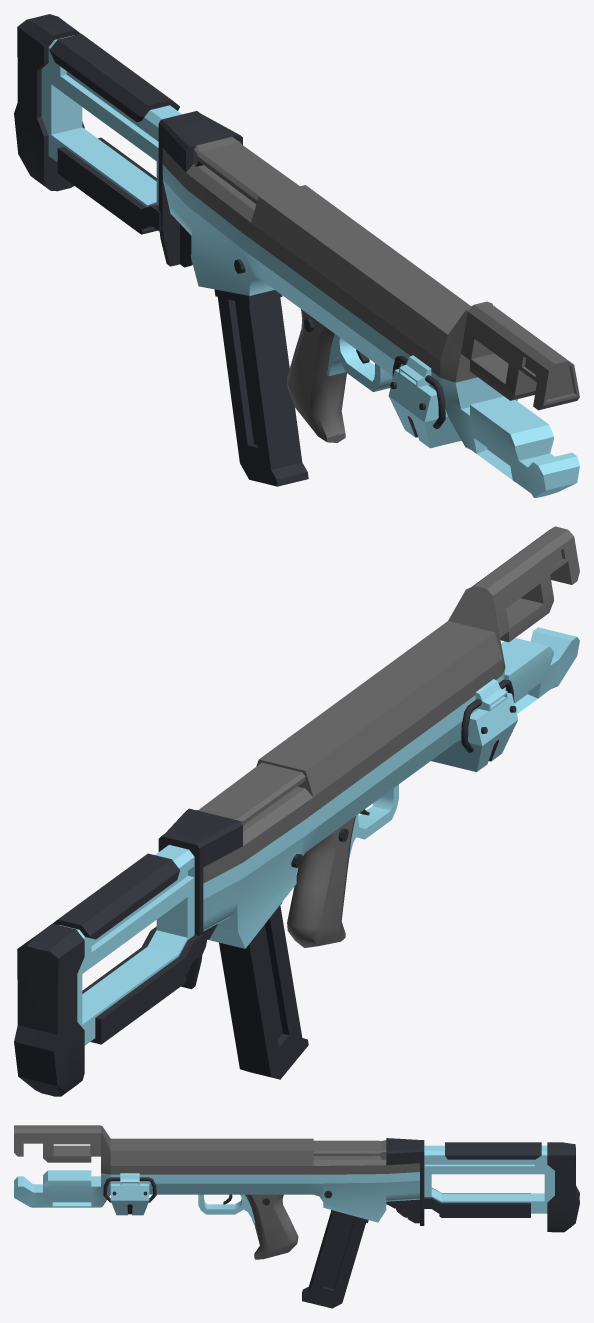
File: Gun1.fbx
3 views of the same model, one above another, from view 1: azimuth 30°, elevation 25°; view 2: azimuth 150°, elevation 25°; view 3: azimuth 270°, elevation 25° (orthographic). The views are drawn at different scales.
Parts seen in each view (by area): view 1: stock_guardian_long, mediumBlaster_center (×2), mediumBlaster_front_jaw, stock_viper_assault, magazine_long, grip_trigger_coyote, handguard_guardian; view 2: stock_guardian_long, mediumBlaster_center (×2), stock_viper_assault, mediumBlaster_front_jaw, magazine_long, grip_trigger_coyote, handguard_guardian; view 3: mediumBlaster_center (×2), stock_guardian_long, stock_viper_assault, mediumBlaster_front_jaw, magazine_long, grip_trigger_coyote, handguard_guardian.
Part boxes in pixels (left/top/right/bottom): stock_guardian_long: left=14, top=14, right=181, bottom=234; mediumBlaster_center (×2): left=260, top=191, right=471, bottom=390; mediumBlaster_front_jaw: left=440, top=301, right=579, bottom=497; stock_viper_assault: left=158, top=111, right=314, bottom=295; magazine_long: left=214, top=289, right=308, bottom=486; grip_trigger_coyote: left=287, top=309, right=392, bottom=442; handguard_guardian: left=388, top=355, right=518, bottom=448; stock_guardian_long: left=14, top=845, right=202, bottom=1096; mediumBlaster_center (×2): left=268, top=621, right=502, bottom=845; stock_viper_assault: left=158, top=753, right=322, bottom=989; mediumBlaster_front_jaw: left=448, top=526, right=579, bottom=713; magazine_long: left=219, top=902, right=308, bottom=1079; grip_trigger_coyote: left=287, top=784, right=398, bottom=947; handguard_guardian: left=431, top=679, right=518, bottom=772; mediumBlaster_center (×2): left=110, top=1138, right=303, bottom=1194; stock_guardian_long: left=422, top=1142, right=579, bottom=1232; stock_viper_assault: left=304, top=1138, right=424, bottom=1225; mediumBlaster_front_jaw: left=14, top=1125, right=110, bottom=1207; magazine_long: left=302, top=1210, right=368, bottom=1308; grip_trigger_coyote: left=198, top=1194, right=298, bottom=1259; handguard_guardian: left=103, top=1173, right=156, bottom=1215.
Size of the model in its own units: 6.09 by 20.23 by 58.53.
